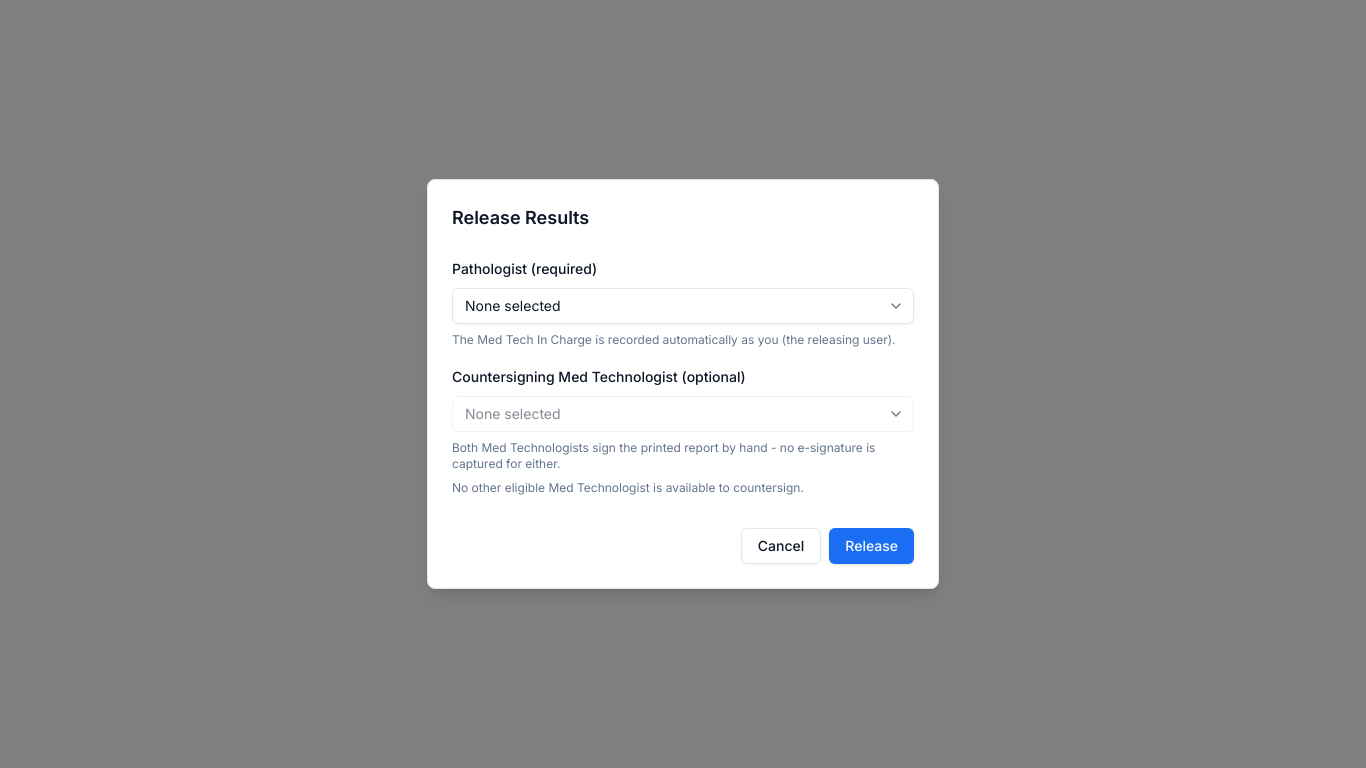
Test: ReleaseResultsDialog › Pathologist is now mandatory › blocks submission and shows a validation error when no Pathologist is selected
This screenshot has width=1366, height=768.
Step 1. Click the button "Release" → (872, 546), box top-left (829, 528), bottom-right (914, 564)
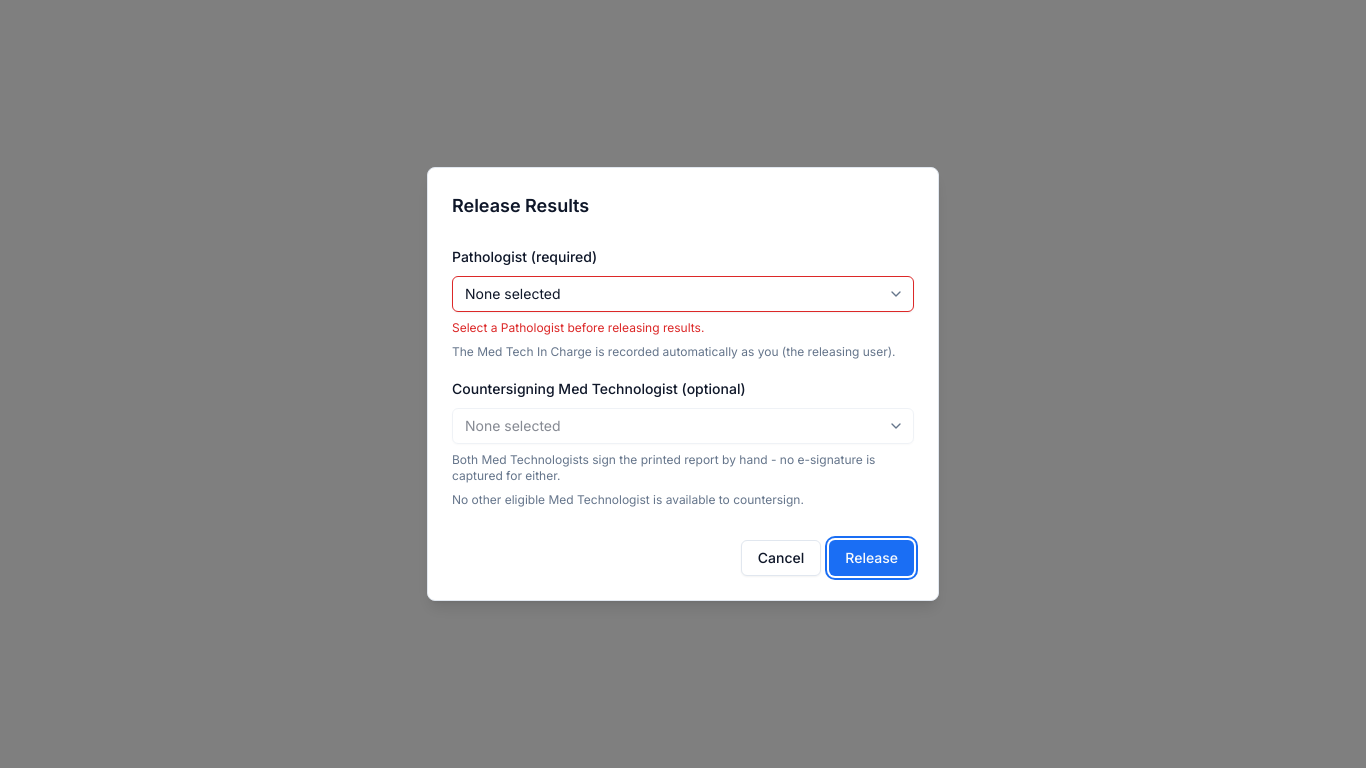
Expected: the text "Select a Pathologist before releasing results." is shown, top-left (452, 320), bottom-right (704, 335)
